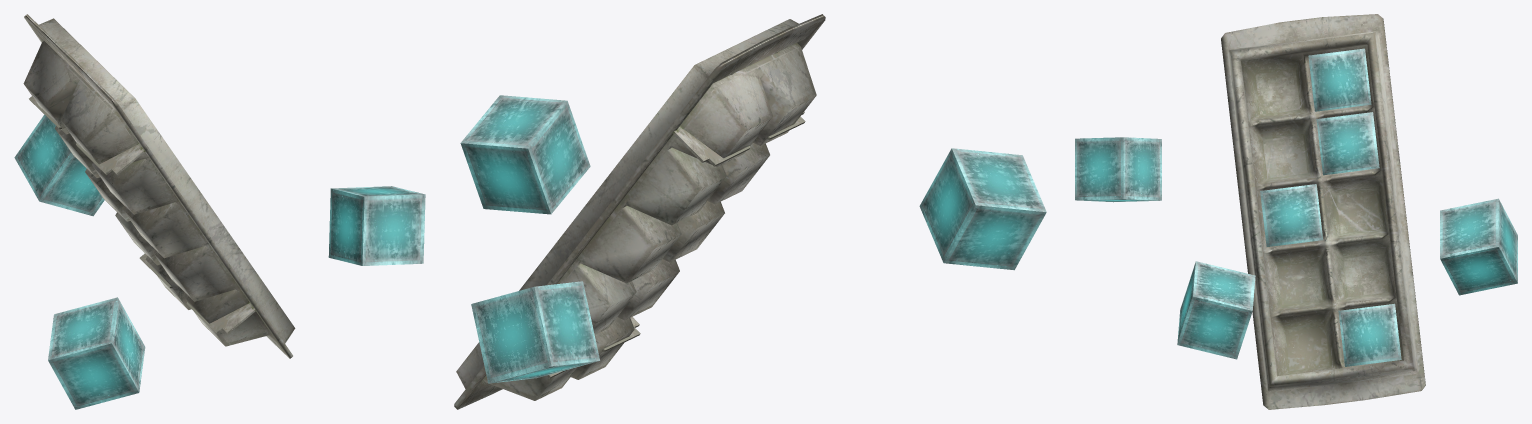
3 renders of one model, left to right at view 1: azimuth 30°, elevation 25°; view 2: azimuth 150°, elevation 25°; view 3: azimuth 270°, elevation 25°, orthographic. The views are drawn at different scales.
Visible parts, largest first — view 1: Body__IceCubeTray, Prop_UzuSaltLarge_0__UzuSalt; view 2: Body__IceCubeTray, Prop_UzuSaltLarge_0__UzuSalt; view 3: Body__IceCubeTray, Prop_UzuSaltLarge_0__UzuSalt.
Part boxes in pixels (bbox=[...]): Body__IceCubeTray: bbox=[23, 14, 295, 358]; Prop_UzuSaltLarge_0__UzuSalt: bbox=[14, 114, 425, 409]; Body__IceCubeTray: bbox=[454, 14, 825, 409]; Prop_UzuSaltLarge_0__UzuSalt: bbox=[460, 95, 1046, 383]; Body__IceCubeTray: bbox=[1221, 14, 1425, 409]; Prop_UzuSaltLarge_0__UzuSalt: bbox=[1075, 48, 1517, 366].
Bounding box in the file's own units: 6.99 × 5.52 × 7.16.
Materials: 2 (2 with a texture image).
